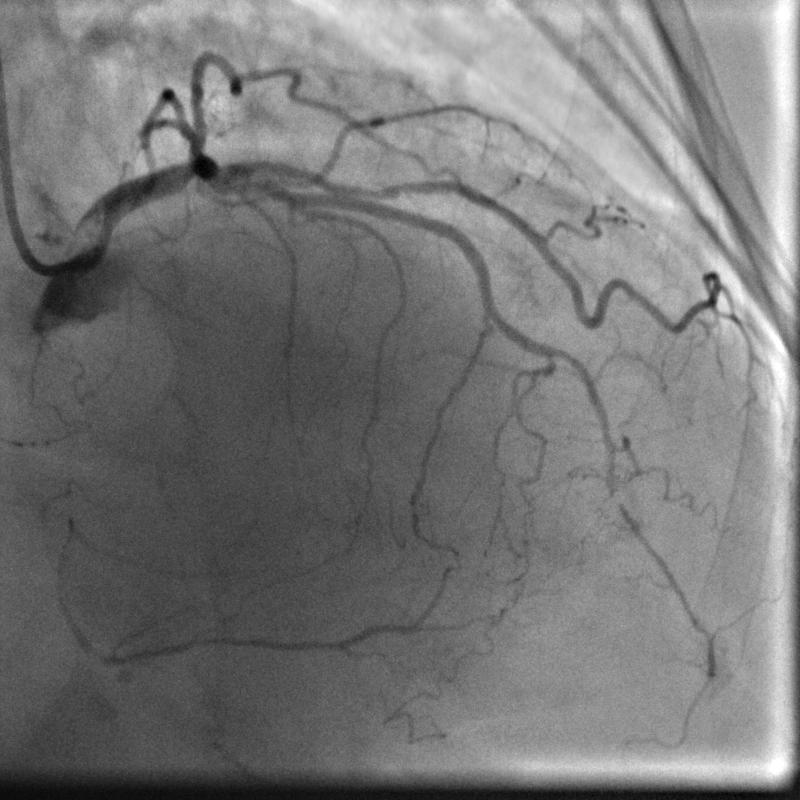Stenosis: (354, 173, 445, 201)
